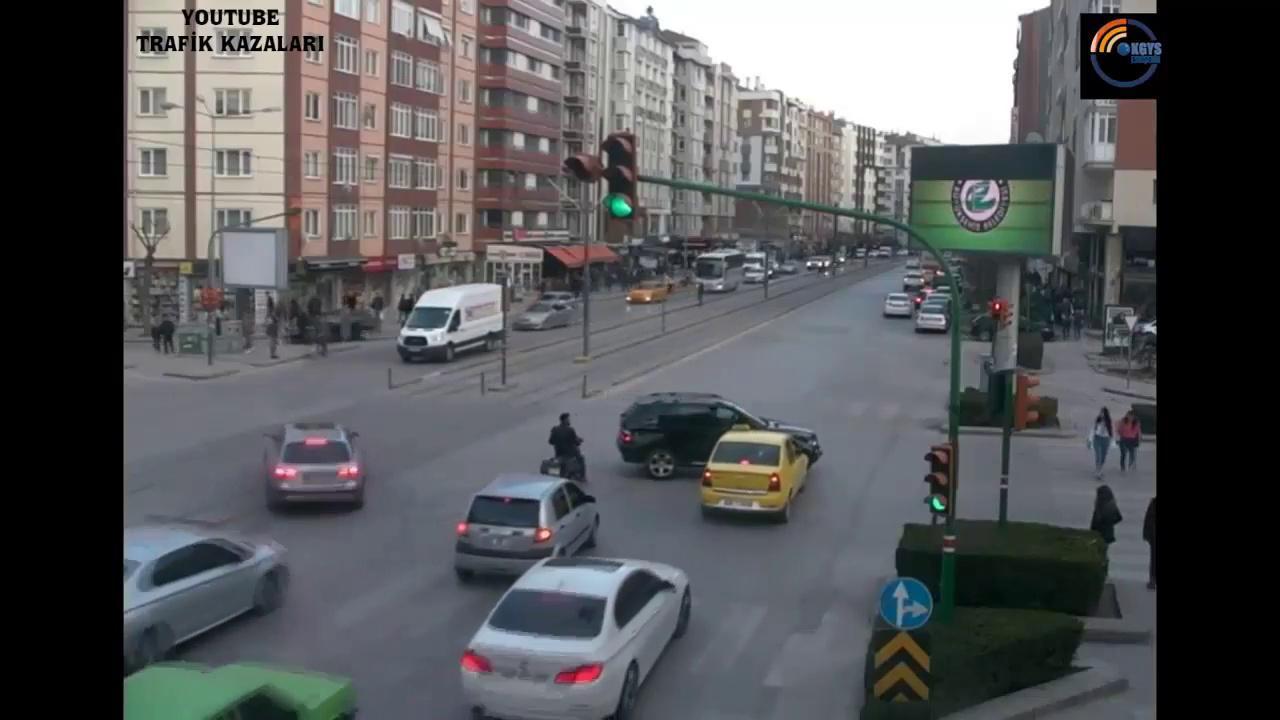car-accident: (613, 387, 829, 529)
